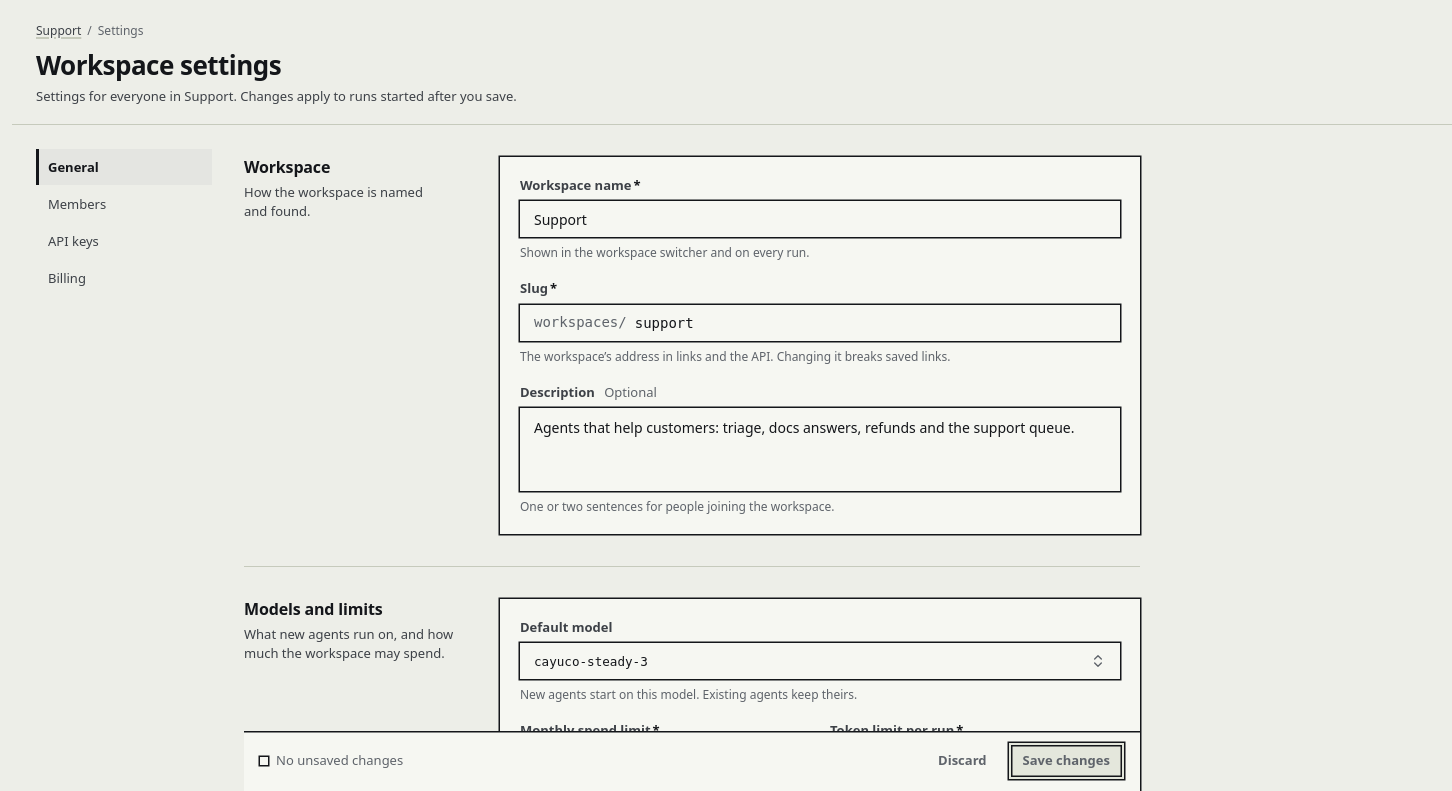
Test: SettingsPage › validates on save: lists what is wrong in a summary that takes focus, and clears each error once fixed
This screenshot has width=1452, height=791.
Clear the field labelled "Workspace name" at (820, 219), box [534,201,1106,237]
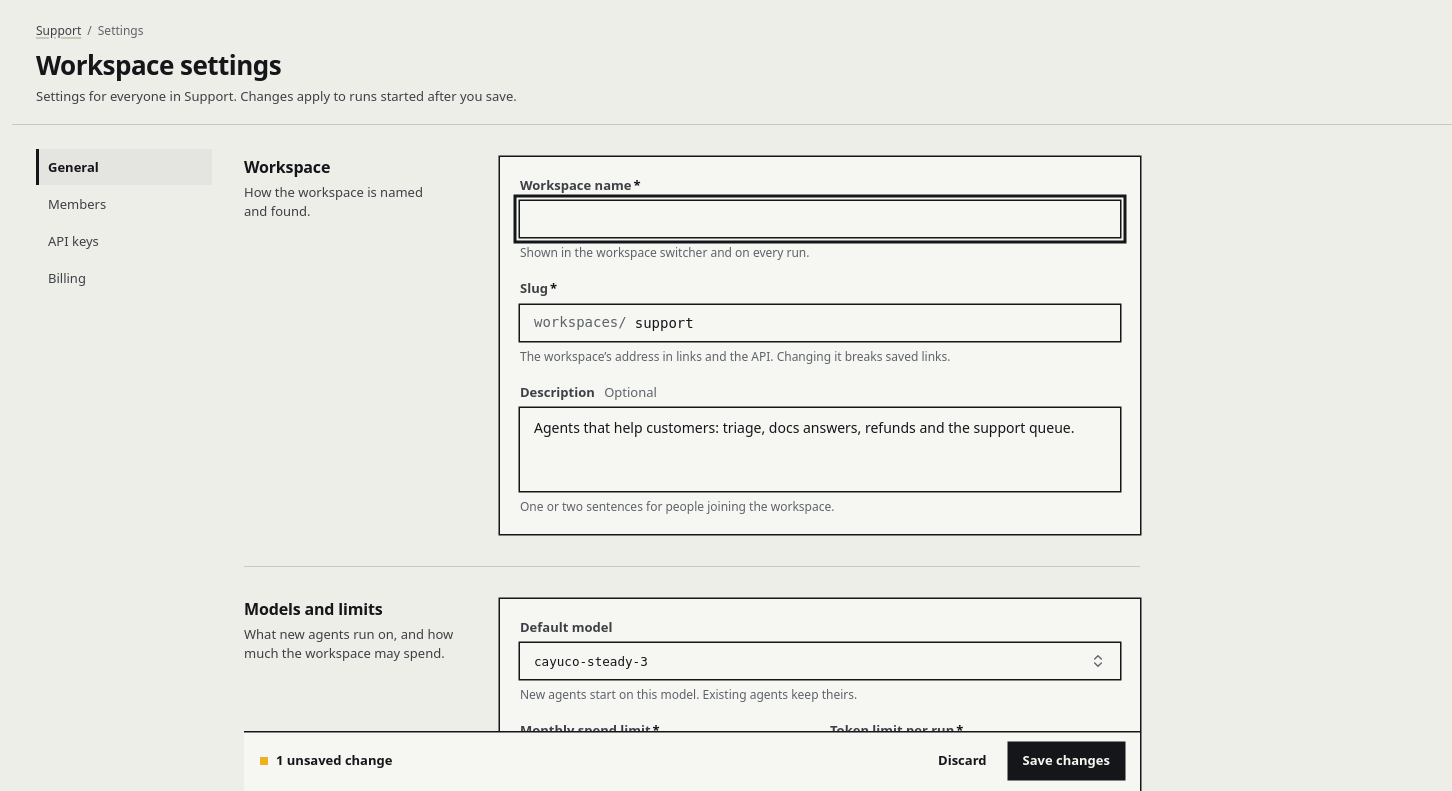
Replace the text in the field labelled "Slug" with "Support Team" at (870, 323), box [635,305,1106,341]
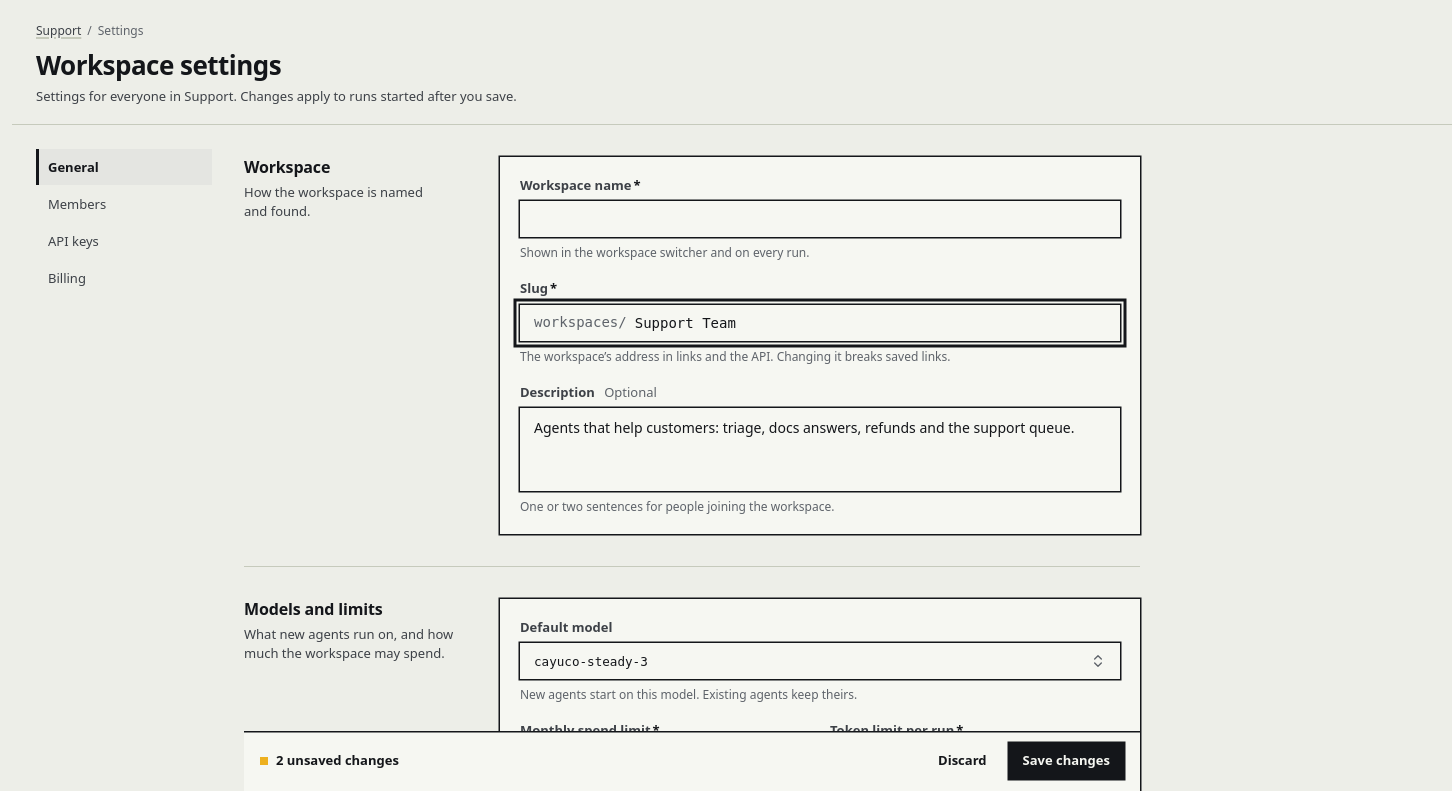
Click the button "Save changes" at (1066, 761), box [1008,743,1124,779]
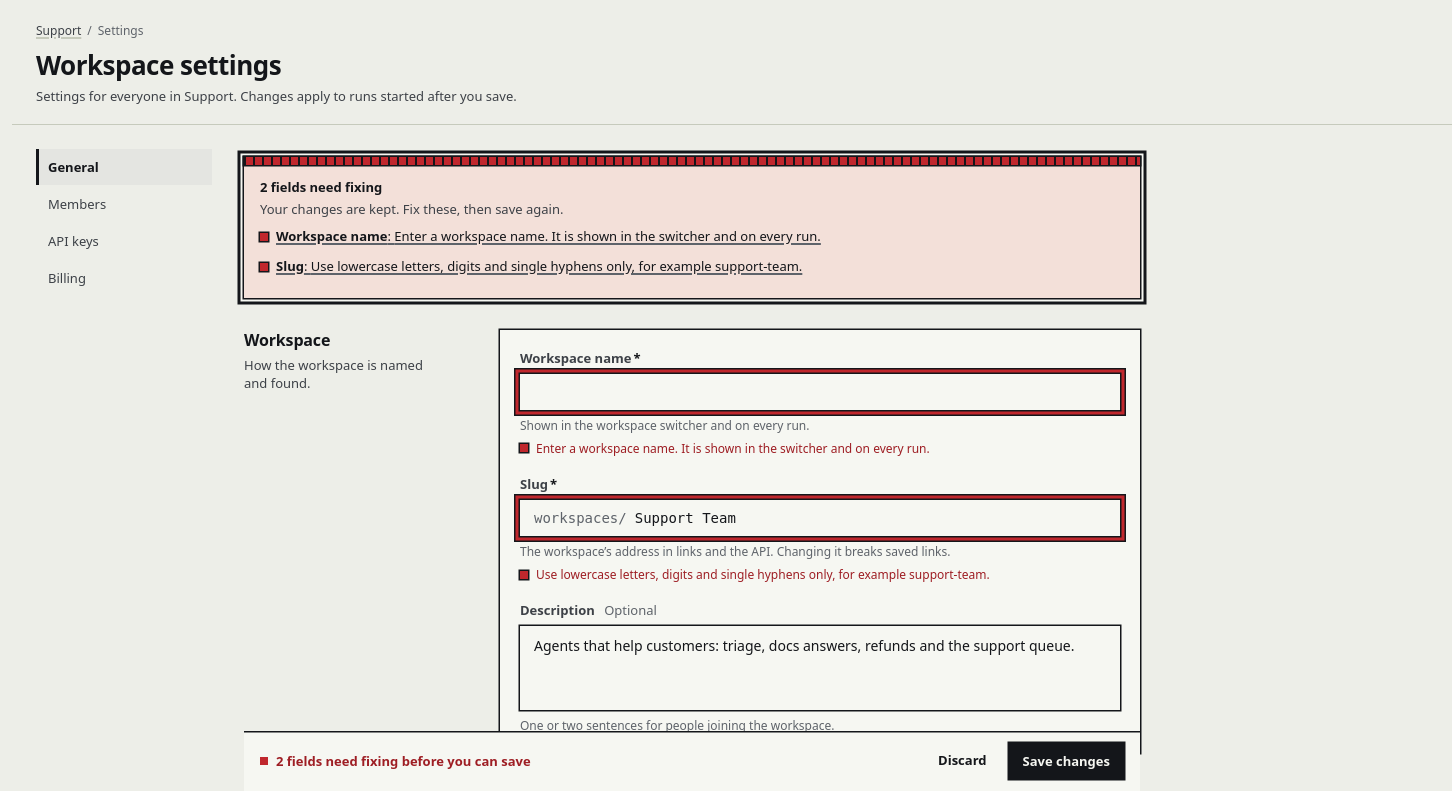
Expected: the message "2 unsaved changes" is gone
Expected: the links read "Workspace name: Enter a workspace name. It is shown in the switcher and on every run.", "Slug: Use lowercase letters, digits and single hyphens only, for example support-team.", in this order
Expected: the text "2 fields need fixing before you can save" is shown, [276,752,531,770]
Click the link "Workspace name" at (548, 240), box [276,228,821,252]
(page scrolled)
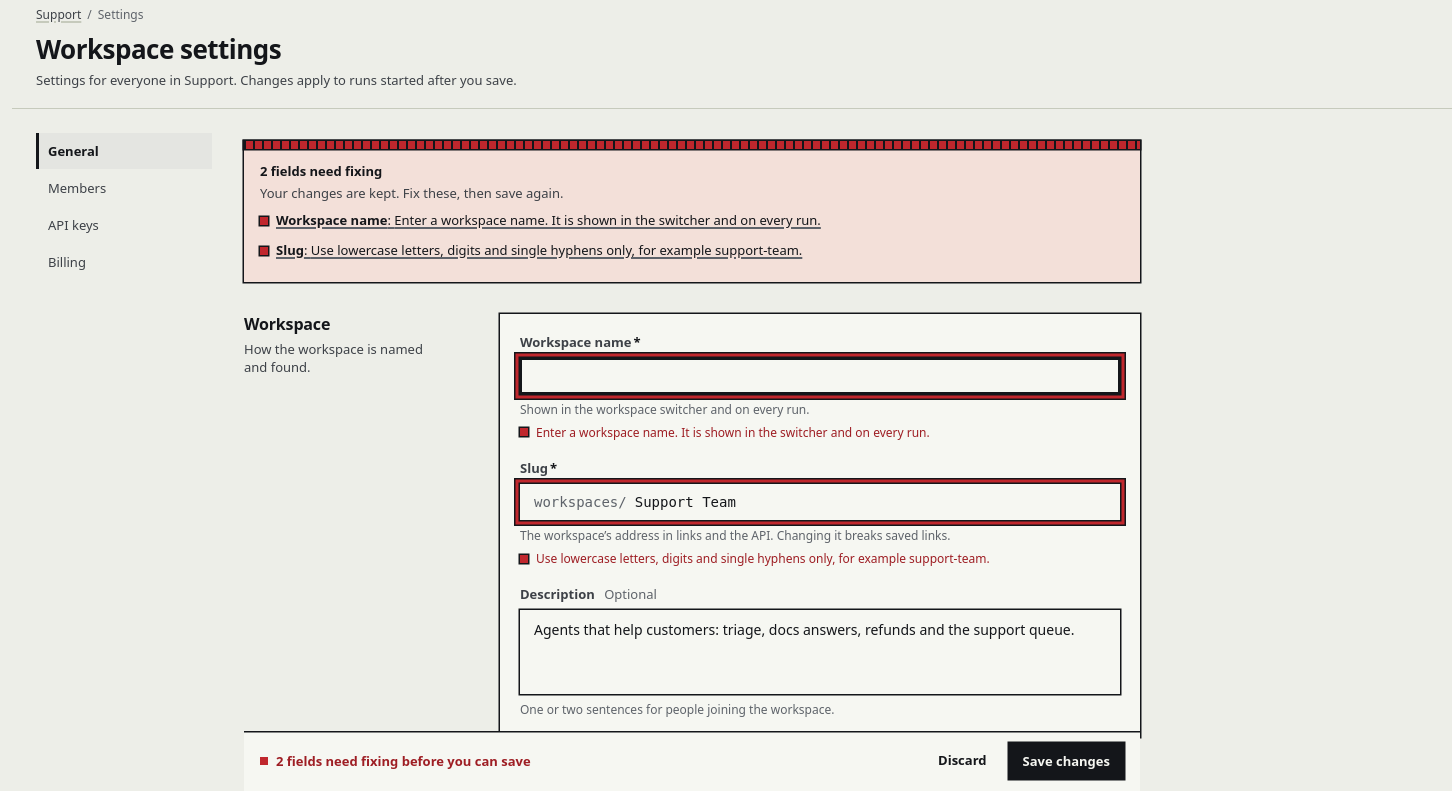
Type "Support" into the field labelled "Workspace name" at (820, 376), box [534,358,1106,394]
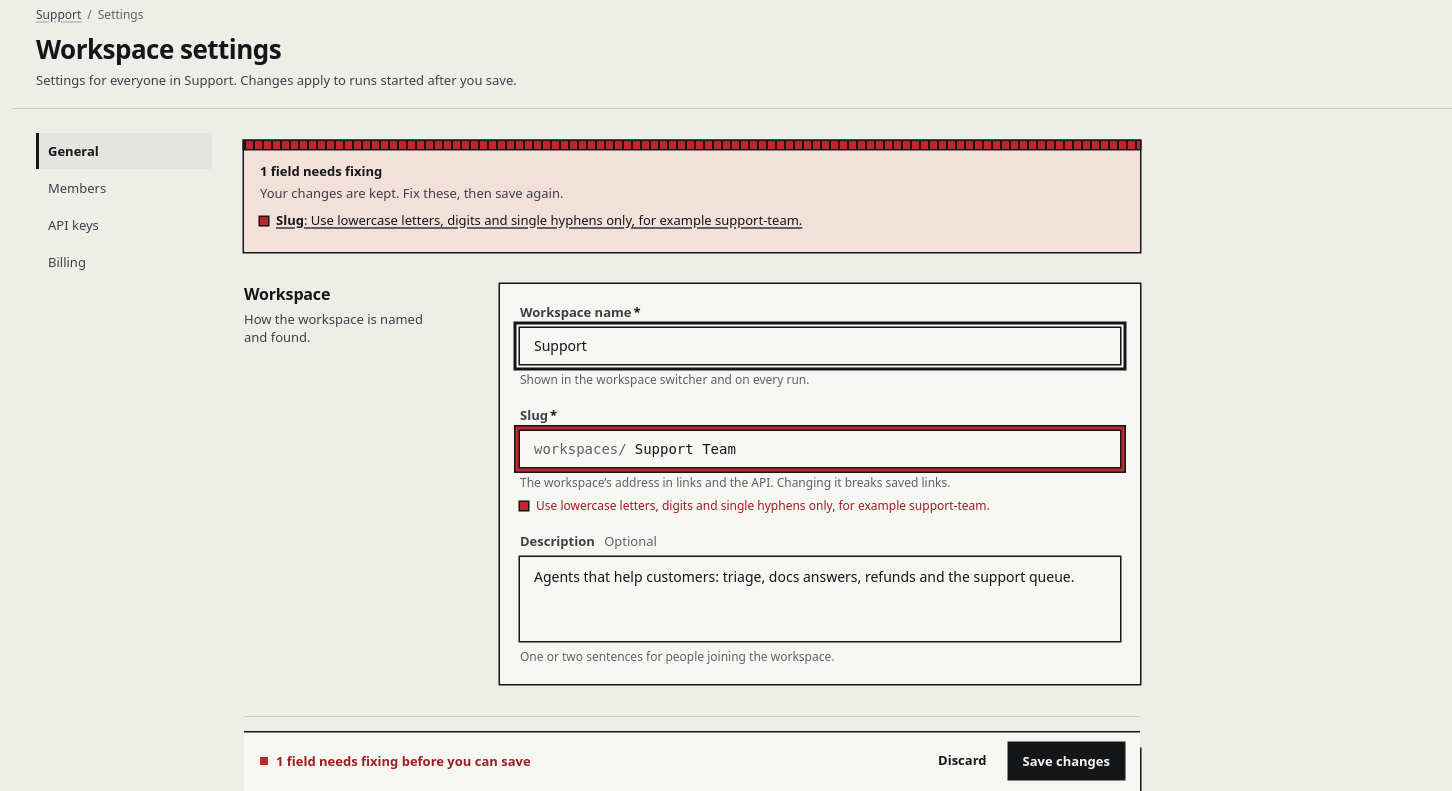
Expected: the element "1 field needs fixing" is shown, [244,141,1140,252]
Expected: the text "1 field needs fixing before you can save" is shown, [276,752,531,770]
